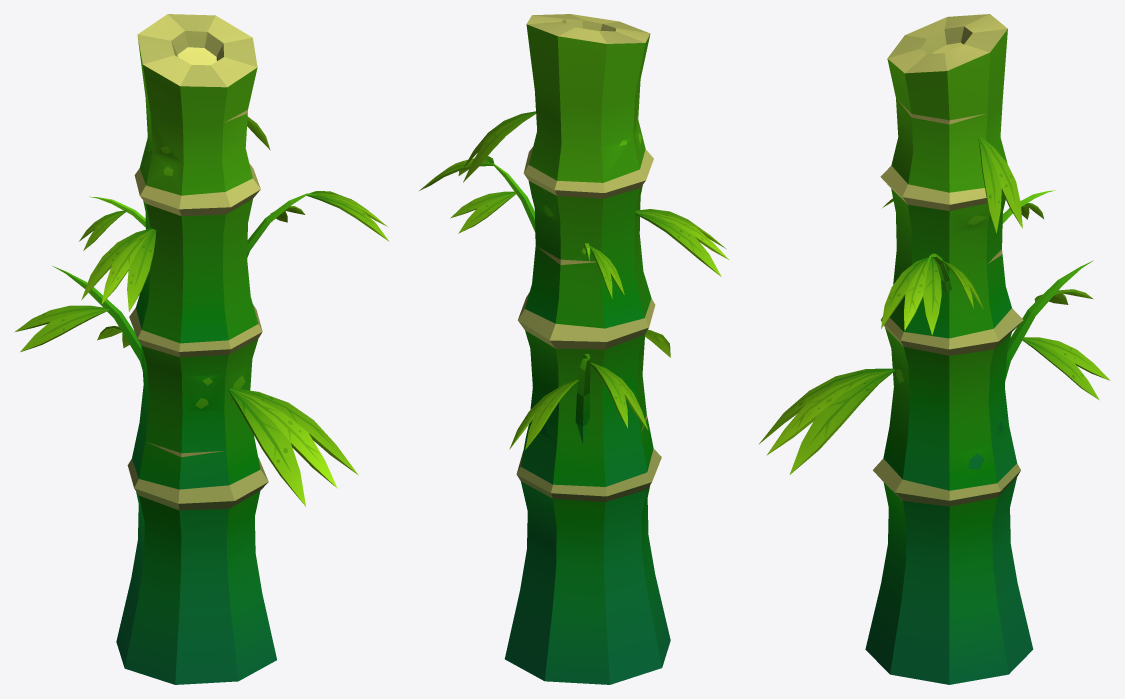
The model's file is bamboo_3.glb.
3 views of the same model, side by side, from view 1: azimuth 30°, elevation 25°; view 2: azimuth 150°, elevation 25°; view 3: azimuth 270°, elevation 25° (orthographic). The views are drawn at different scales.
Visible parts, largest first — view 1: bamboo_3; view 2: bamboo_3; view 3: bamboo_3.
Boxes of the visible parts, x1,y1,x2,y2 form: bamboo_3: (14,14,389,684); bamboo_3: (419,14,728,684); bamboo_3: (758,14,1110,684).
Size of the model in its own units: 1.37 by 2.73 by 1.4.
1 material, 1 textured.
